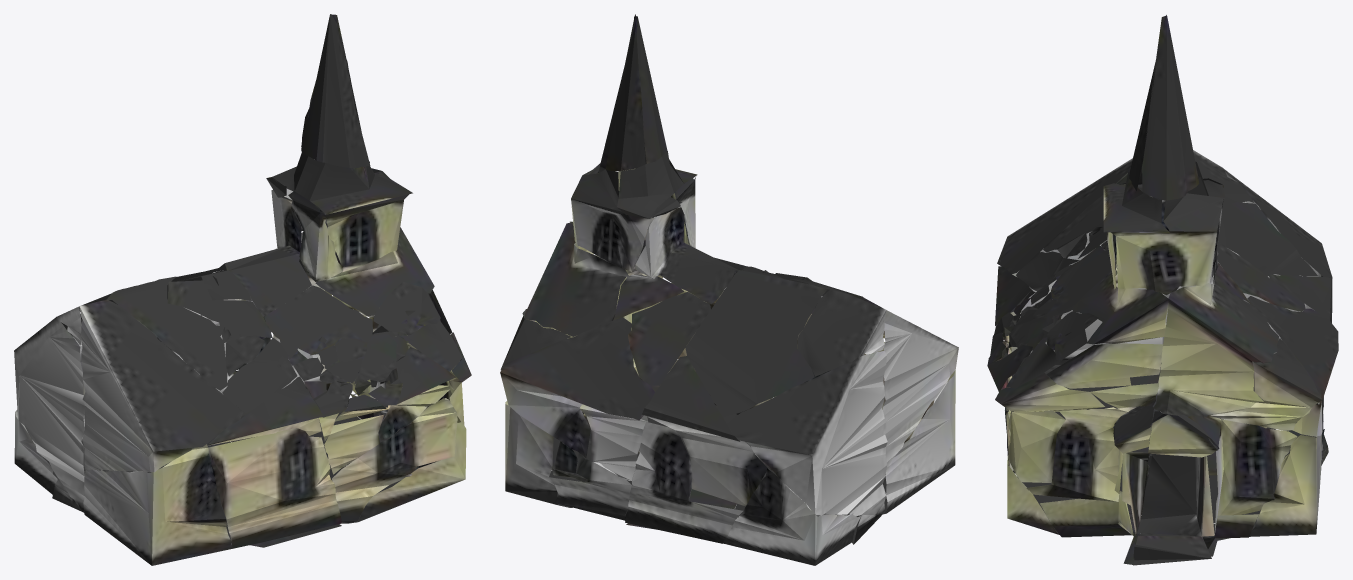
The model's file is loc_cc_bld_church_ai.glb.
3 views of the same model, side by side, from view 1: azimuth 30°, elevation 25°; view 2: azimuth 150°, elevation 25°; view 3: azimuth 270°, elevation 25° (orthographic). The views are drawn at different scales.
Visible parts, largest first — view 1: tripo_node_3662ac8c-682d-414a-aef4-ea4a68a5bfff; view 2: tripo_node_3662ac8c-682d-414a-aef4-ea4a68a5bfff; view 3: tripo_node_3662ac8c-682d-414a-aef4-ea4a68a5bfff.
Part boxes in pixels (left/top/right/bottom): tripo_node_3662ac8c-682d-414a-aef4-ea4a68a5bfff: left=14, top=14, right=471, bottom=565; tripo_node_3662ac8c-682d-414a-aef4-ea4a68a5bfff: left=500, top=14, right=958, bottom=565; tripo_node_3662ac8c-682d-414a-aef4-ea4a68a5bfff: left=987, top=15, right=1338, bottom=565.
Bounding box in the file's own units: 2.55 × 3 × 1.93.
Materials: 1 (1 with a texture image).
